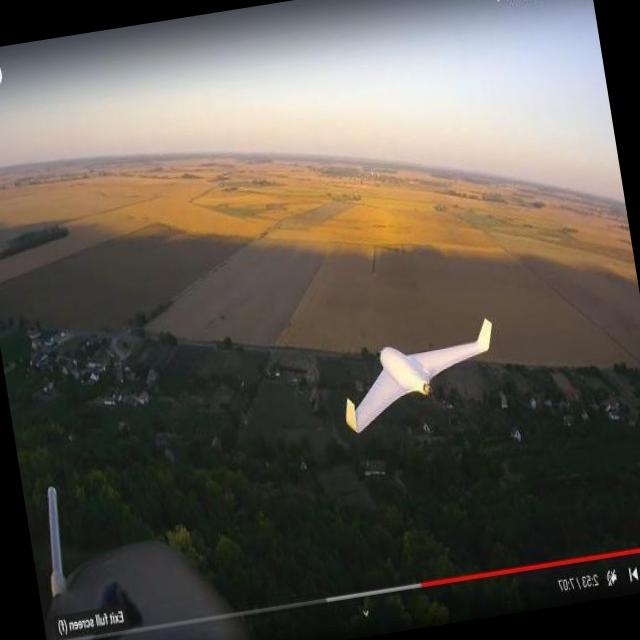UAV: (322, 294, 508, 420)
